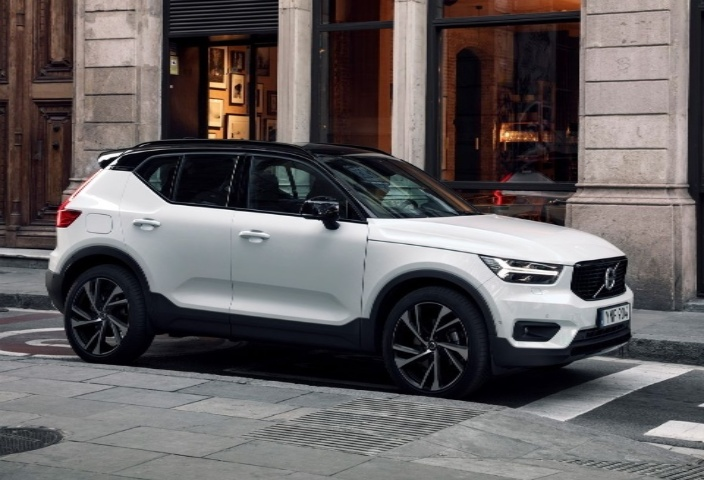camper: (58, 129, 653, 399)
